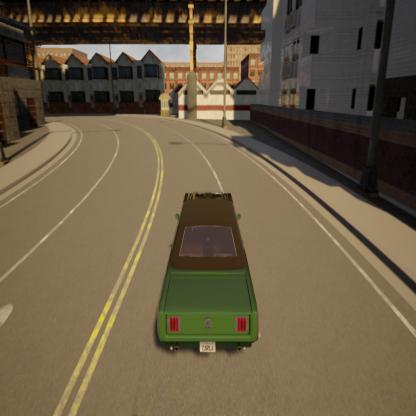Cars: (147, 121, 268, 395)
